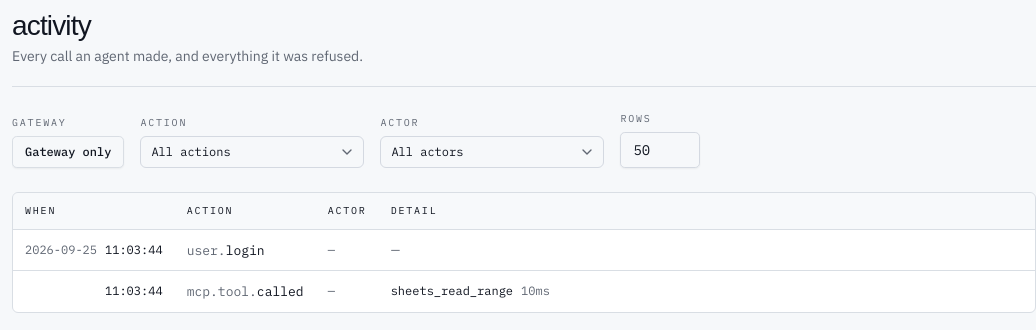
ActivityPage › requests only mcp.* actions when 'Gateway only' is on, and disables the Action select
Expected: the text "sheets_read_range" is shown, [391,283,513,298]
Expected: the table shows "user.login", [13,193,1035,312]
Click the button "Gateway only" at (68, 152), box [12,136,124,168]
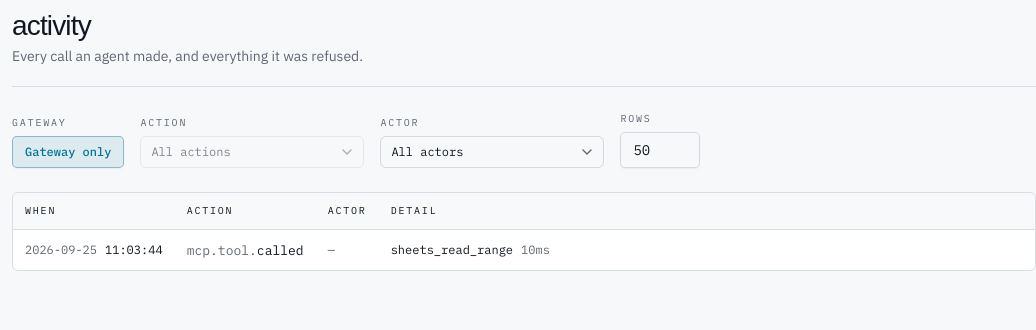
Expected: the text "sheets_read_range" is shown, [391,242,513,257]
Now the table no longer shows "user.login", box [13,193,1035,270]
Now the dropdown labelled "All actions ▼" is disabled, box [140,136,364,168]
